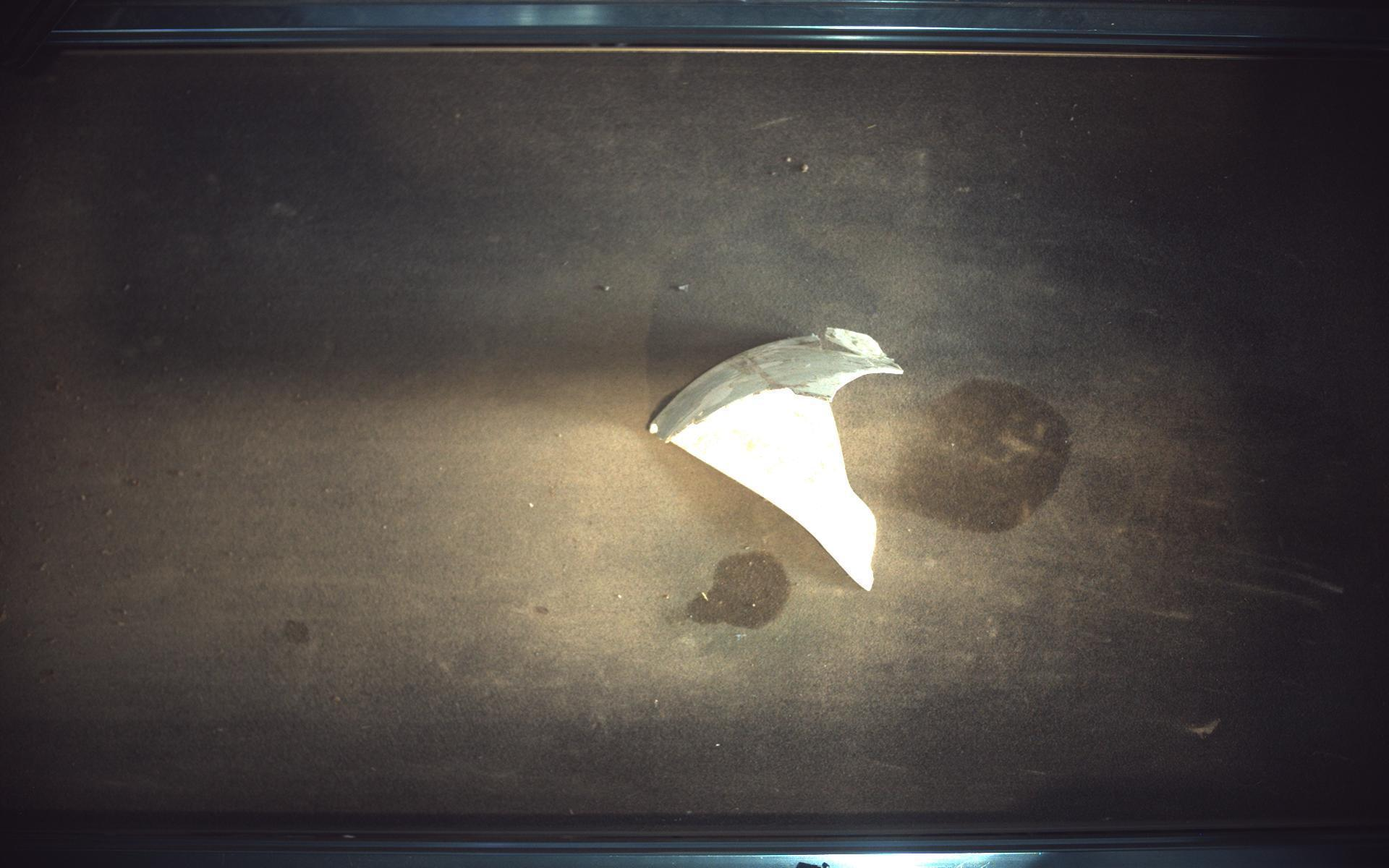plastic: (650, 328, 904, 590)
